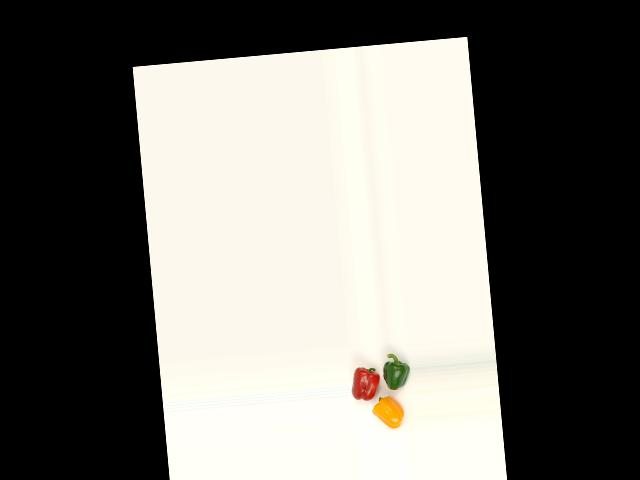bell_pepper: (379, 350, 411, 391)
